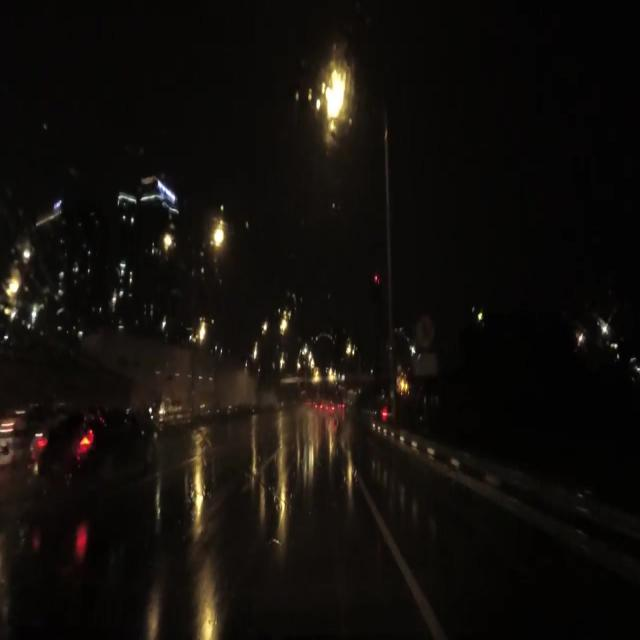Car: (8, 396, 153, 519)
